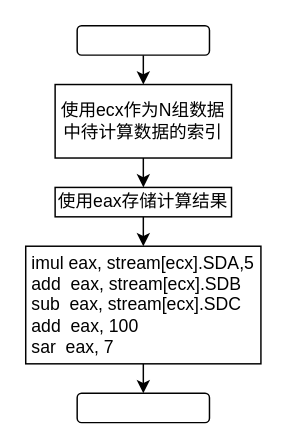
Image size: 287x448. Some labels were removed from this diagram. Here are the shapes that lost their labels. From the top down, the centre of each, then its label:
At (x=142, y=39): "calculate".
At (x=142, y=407): "ret".
